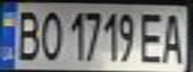1: (63, 8, 84, 62), (100, 8, 121, 62)
7: (81, 8, 103, 61)
9: (115, 8, 139, 63)
A: (157, 9, 190, 64)
B: (9, 6, 42, 62)
E: (136, 9, 166, 64)
O: (36, 7, 63, 62)
